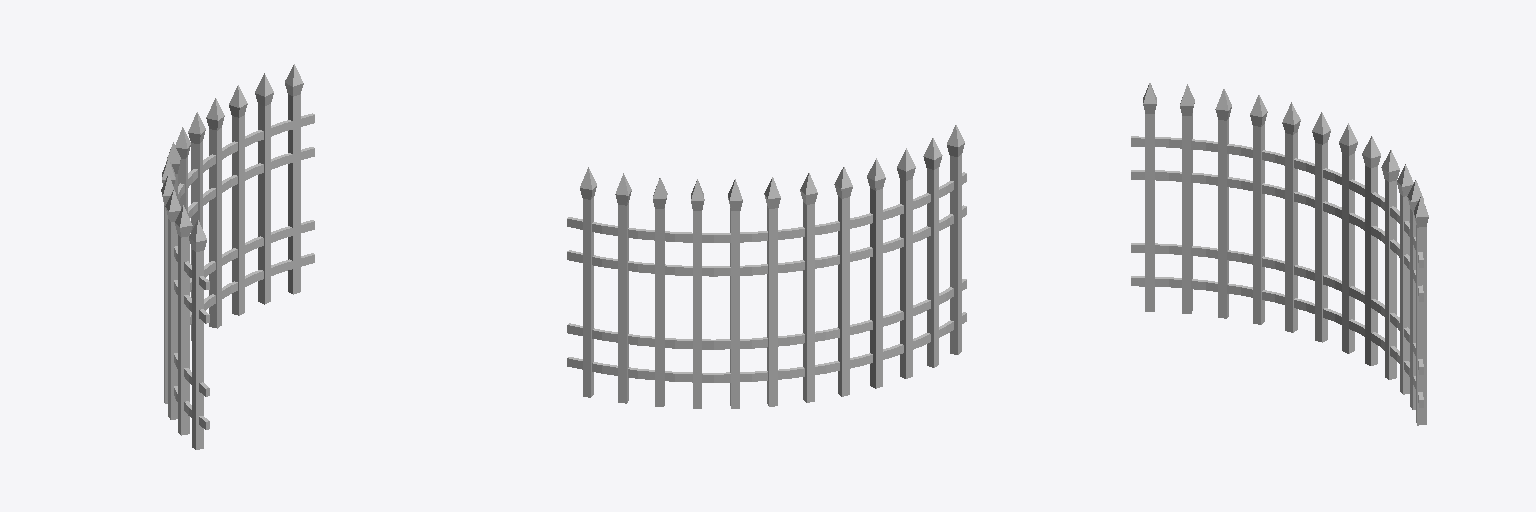
The picture shows the model from 3 angles: view 1: azimuth 30°, elevation 25°; view 2: azimuth 150°, elevation 25°; view 3: azimuth 270°, elevation 25°; orthographic projection.
Parts seen in each view (by area): view 1: ironFenceCurve; view 2: ironFenceCurve; view 3: ironFenceCurve.
Boxes of the visible parts, x1,y1,x2,y2 form: ironFenceCurve: [161, 64, 314, 449]; ironFenceCurve: [567, 125, 966, 408]; ironFenceCurve: [1131, 83, 1428, 425].
Bounding box in the file's own units: 0.9979 × 0.8454 × 1.